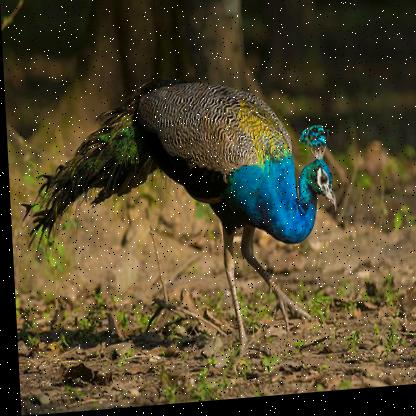Burung: (13, 72, 340, 375)
